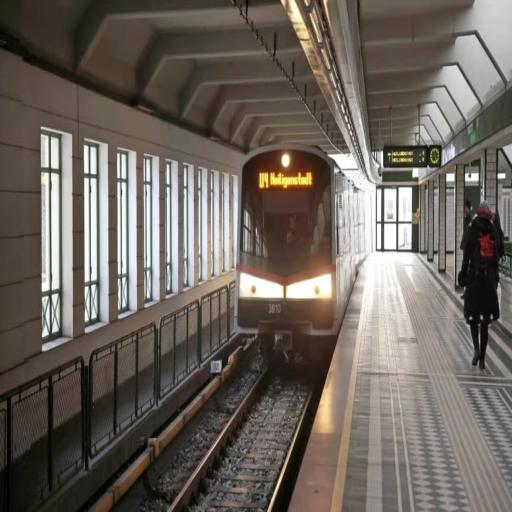V-Wagen: (237, 139, 373, 341)
